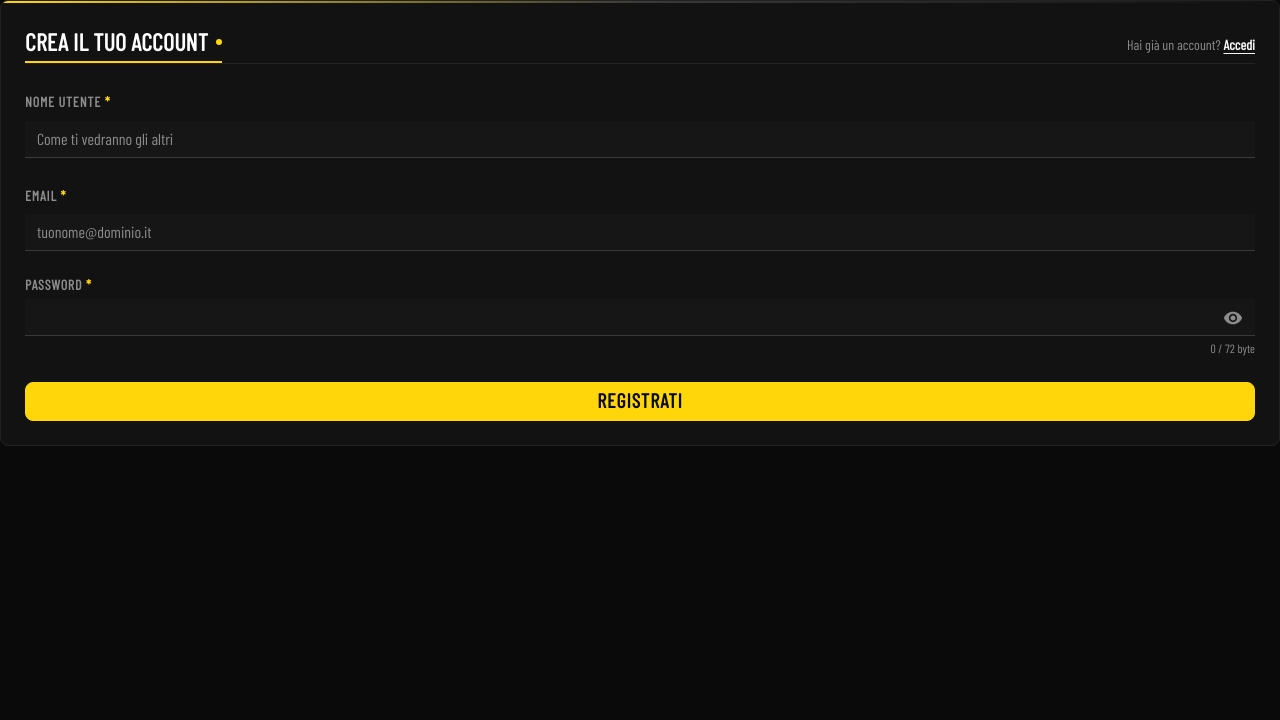
RegisterPage › EMAIL_ALREADY_REGISTERED: avviso senza "prova ad accedere" e collegamento "Vai all'accesso"
The image size is (1280, 720).
In the field labelled "Nome utente": (640, 139) left=25, top=121, right=1255, bottom=158, type "Mario Rossi"
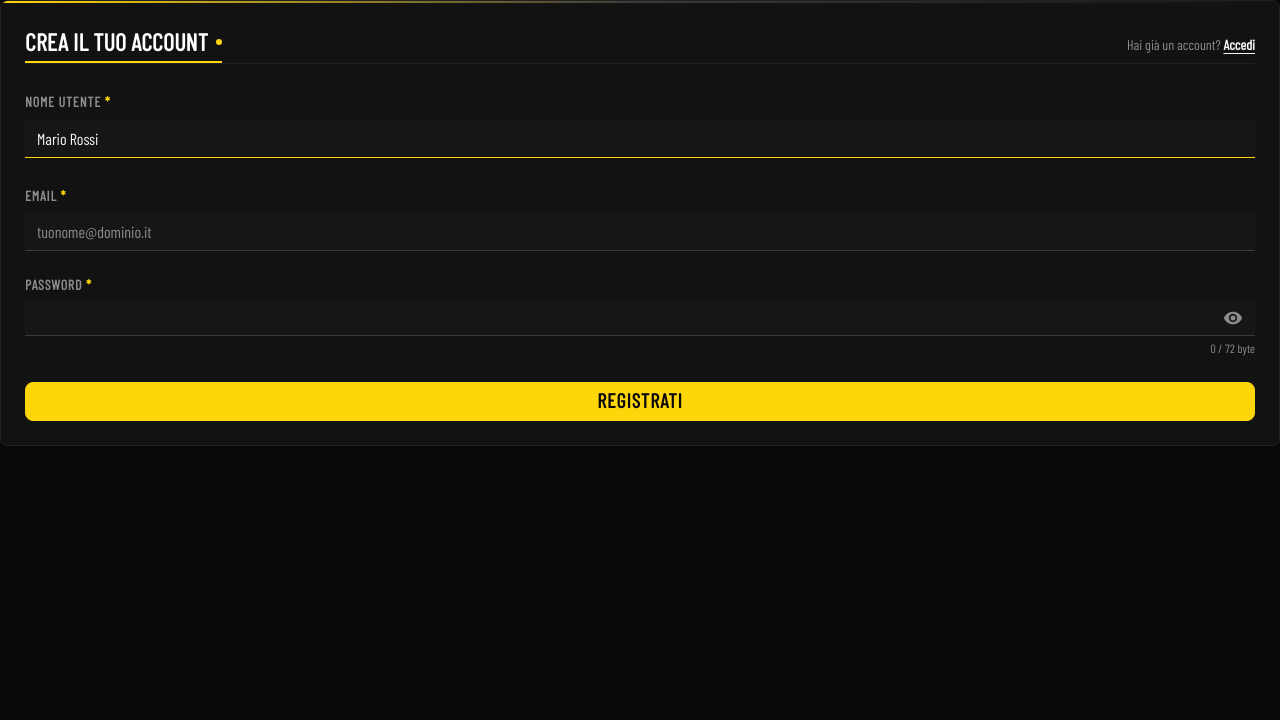
In the field labelled "Email": (640, 232) left=25, top=214, right=1255, bottom=251, type "mario@example.com"
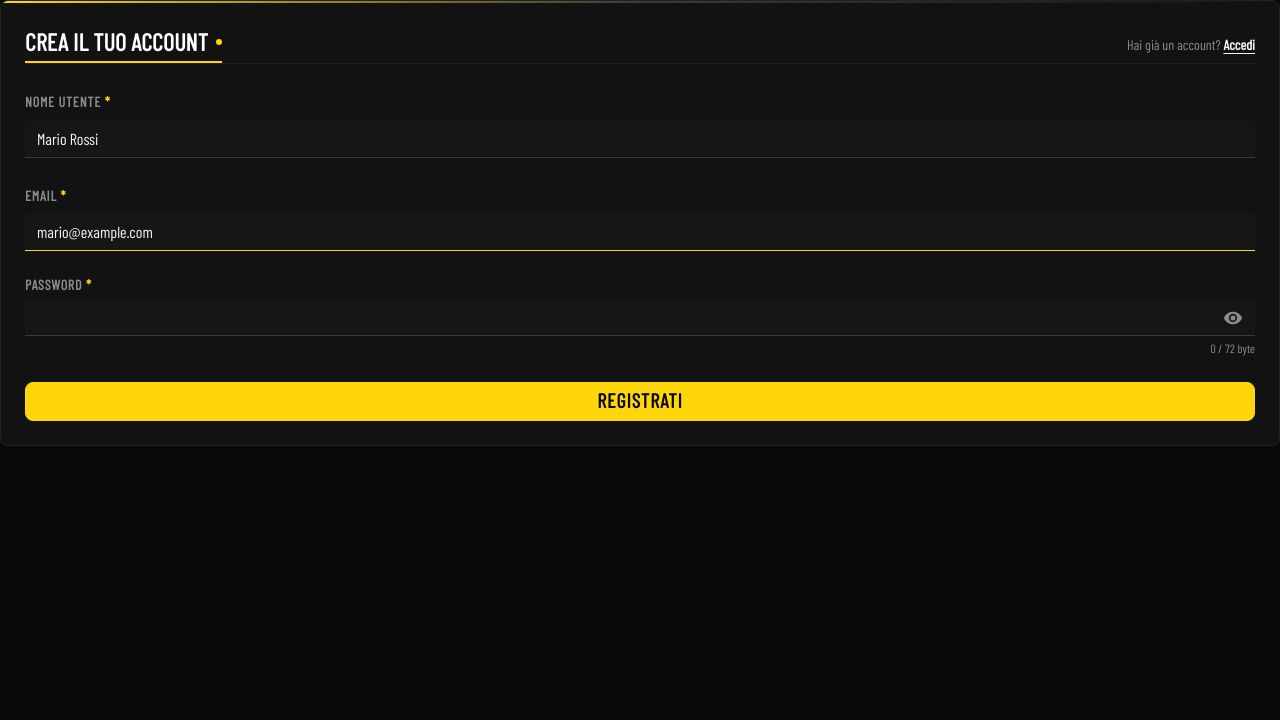
In the password field labelled "Password": (640, 318) left=25, top=299, right=1255, bottom=336, type "password-lunga"
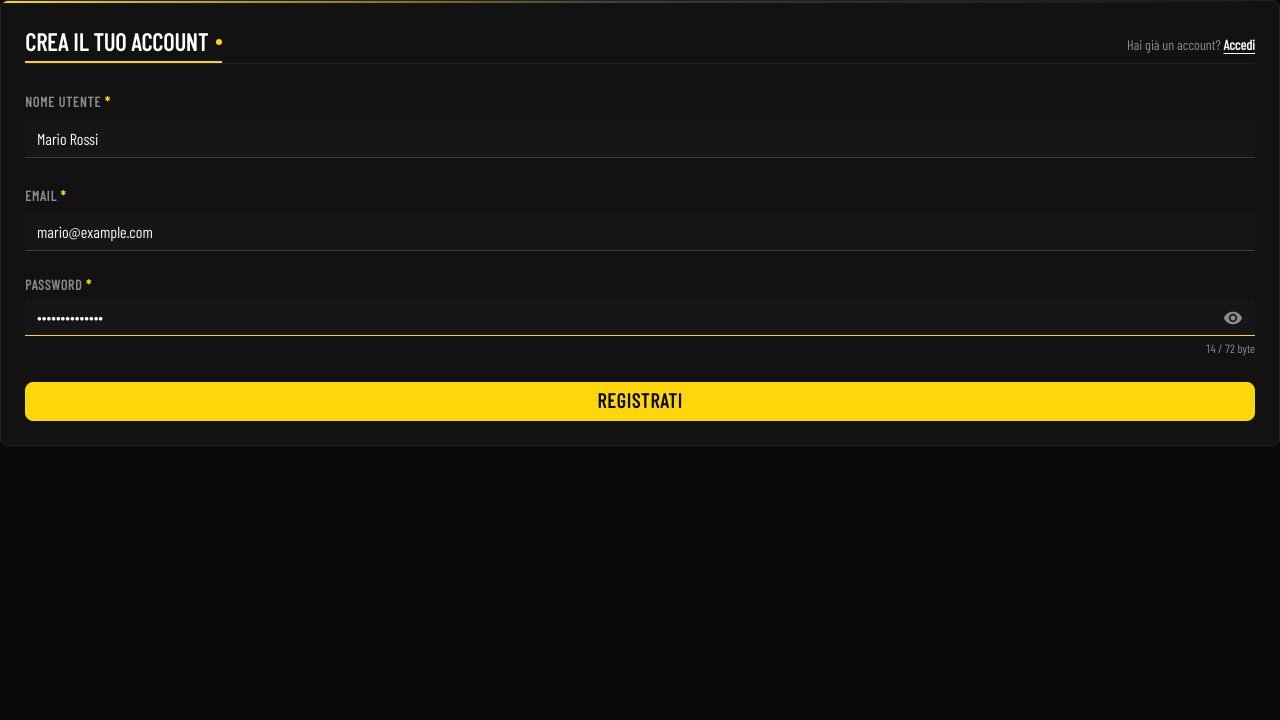
Click the button "Registrati": click(640, 401) left=25, top=382, right=1255, bottom=421
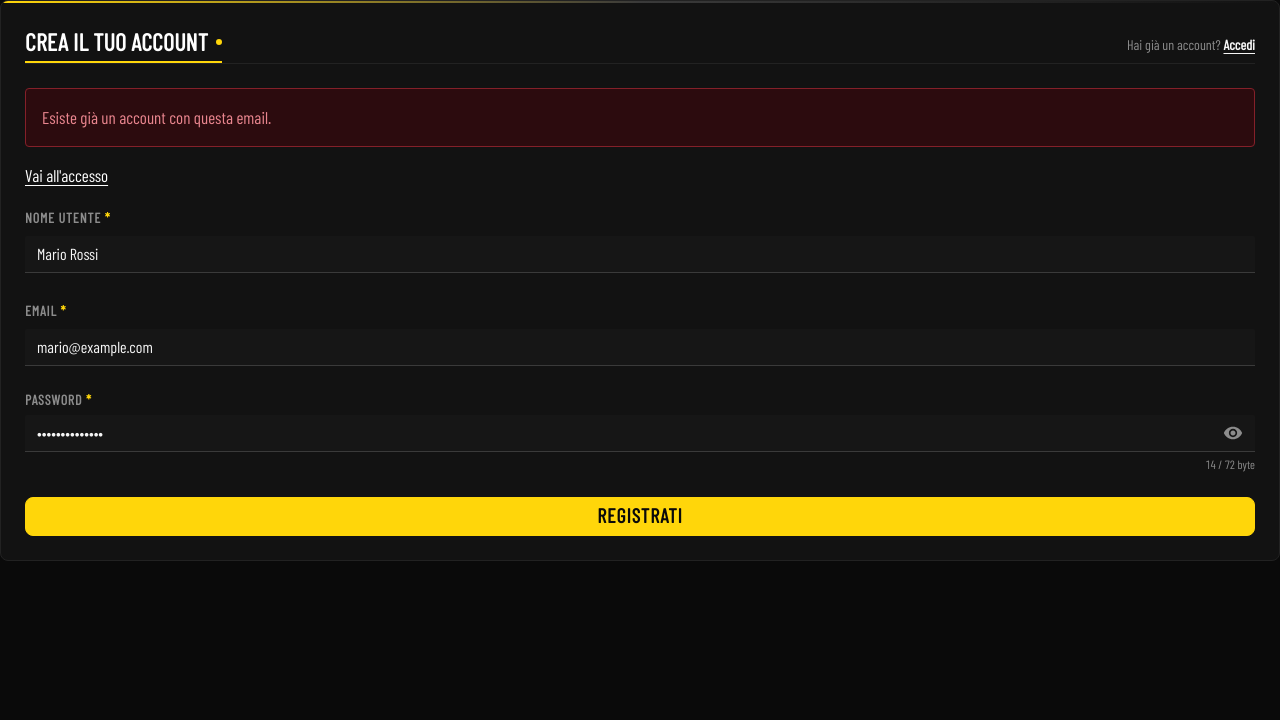
Check: the text "Esiste già un account con questa email." is shown, box left=25, top=88, right=1255, bottom=147
